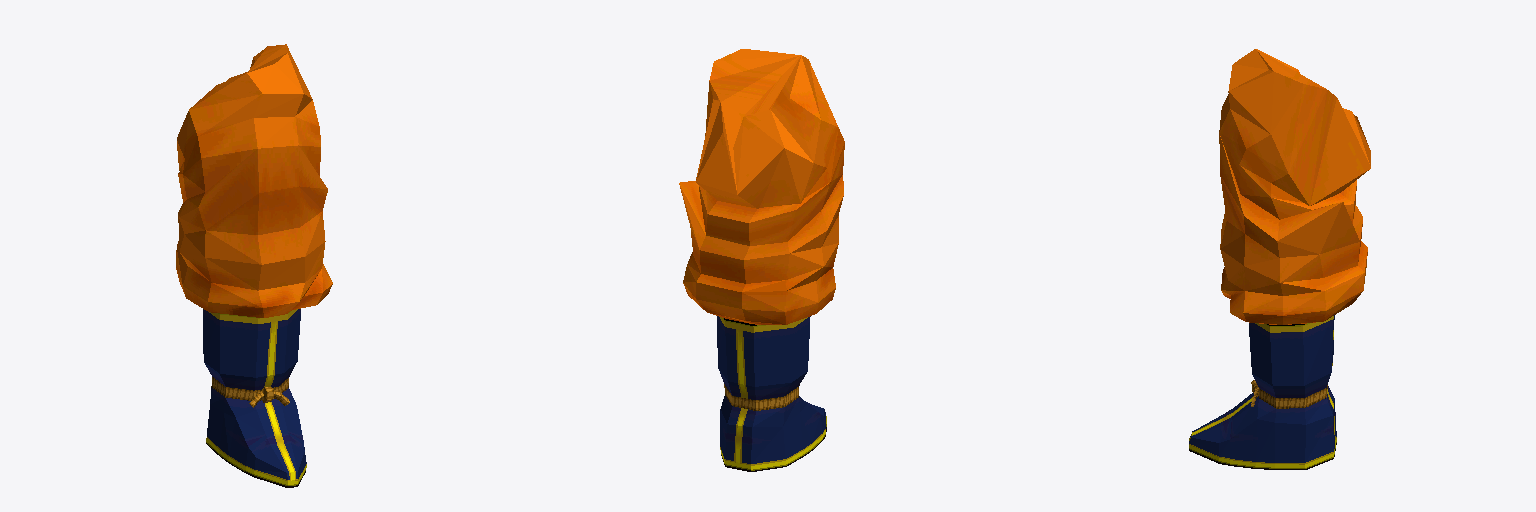
3 renders of one model, left to right at view 1: azimuth 30°, elevation 25°; view 2: azimuth 150°, elevation 25°; view 3: azimuth 270°, elevation 25°, orthographic.
Parts seen in each view (by area): view 1: Mesh.404_DrawCall_231.006; view 2: Mesh.404_DrawCall_231.006; view 3: Mesh.404_DrawCall_231.006.
Boxes of the visible parts, x1,y1,x2,y2 form: Mesh.404_DrawCall_231.006: [176, 44, 332, 487]; Mesh.404_DrawCall_231.006: [679, 49, 844, 471]; Mesh.404_DrawCall_231.006: [1189, 49, 1370, 469].
Size of the model in its own units: 6.41 by 17.77 by 7.42.
2 materials, 2 textured.